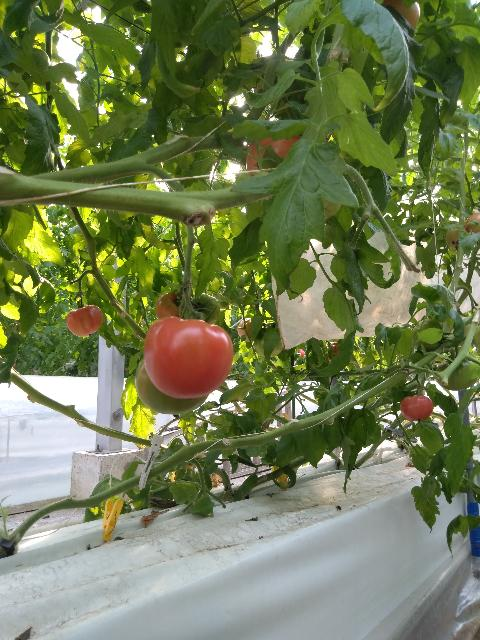b_fully_ripened: (143, 316, 234, 399), (400, 395, 434, 422)
b_green: (135, 357, 210, 415), (435, 358, 480, 391), (412, 318, 445, 352), (186, 293, 221, 325), (253, 325, 284, 358)
b_half_ripened: (66, 305, 103, 337), (155, 292, 184, 319), (238, 318, 254, 343)
